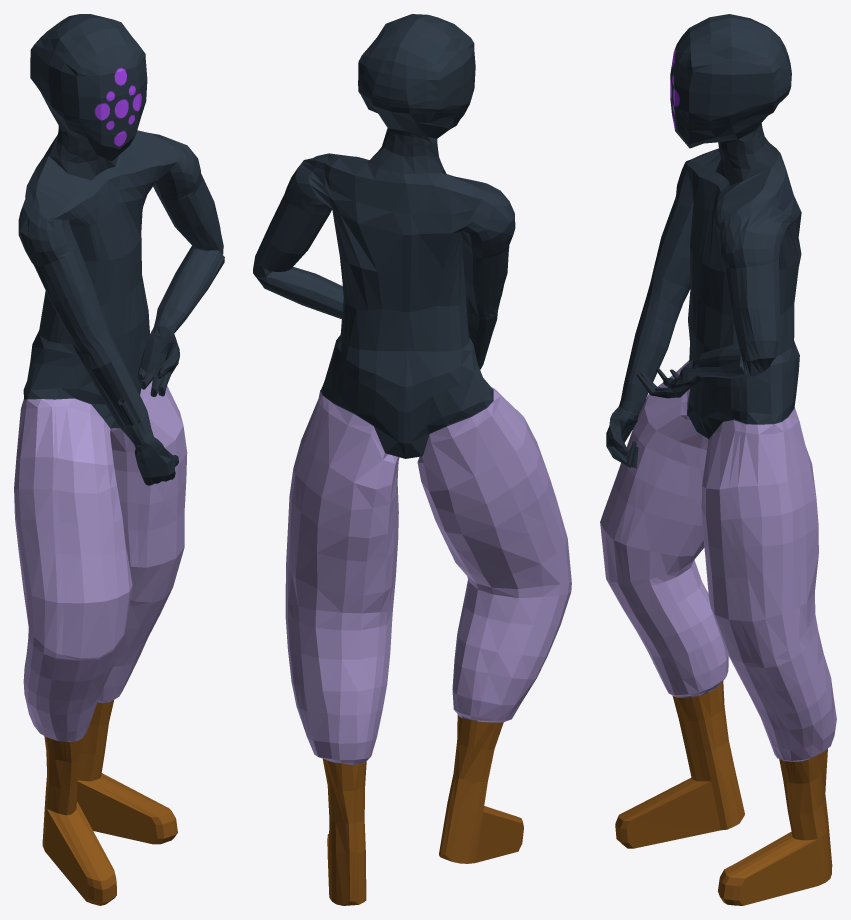
The model's file is Oracle_WR_000003.obj.
3 views of the same model, side by side, from view 1: azimuth 30°, elevation 25°; view 2: azimuth 150°, elevation 25°; view 3: azimuth 270°, elevation 25° (orthographic). The views are drawn at different scales.
Visible parts, largest first — view 1: Cube; view 2: Cube; view 3: Cube.
Boxes of the visible parts, x1,y1,x2,y2 form: Cube: (14, 14, 224, 905); Cube: (253, 14, 571, 905); Cube: (600, 14, 836, 905).
Bounding box in the file's own units: 1.2 × 3.9 × 0.9878.
